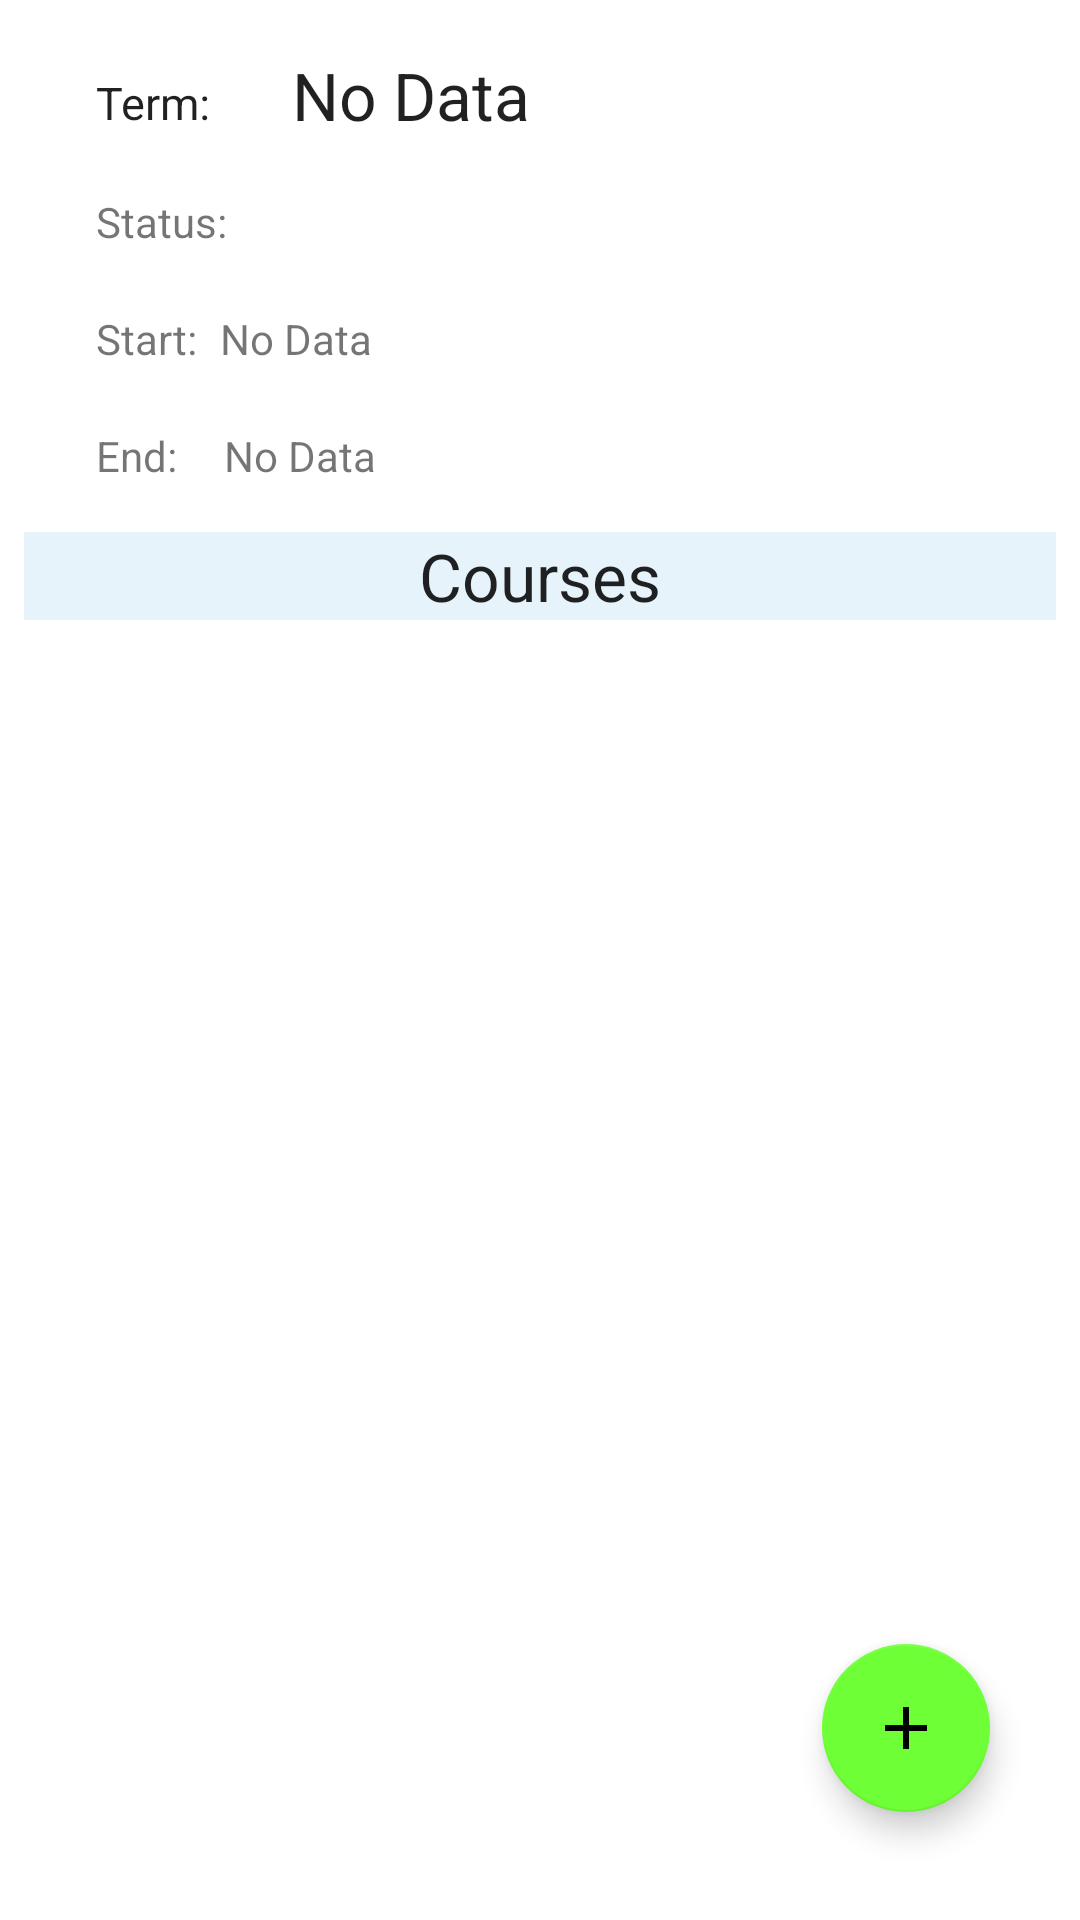

Where to tap for icons on this 1080 x 1920 app screen, as point (x, y):
add: point (906, 1728)
